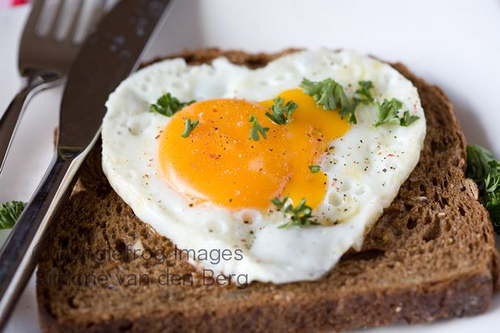egg: (99, 45, 427, 285)
